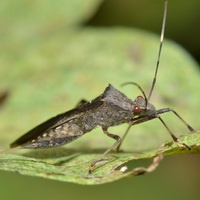insect: (4, 127, 113, 171), (150, 40, 199, 129), (129, 154, 199, 199), (121, 119, 170, 152)
